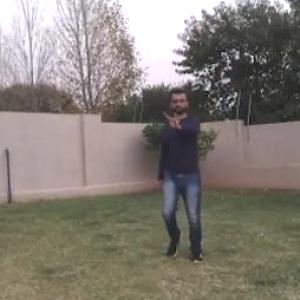takeoff-hand: (162, 108, 189, 140)
